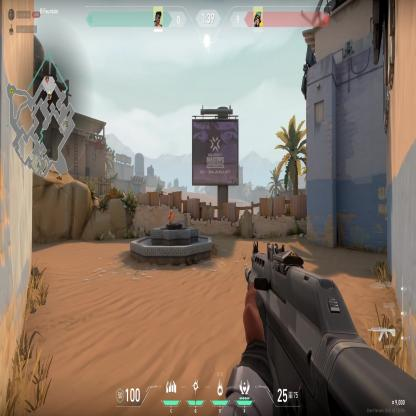enemy: (167, 209, 174, 222)
